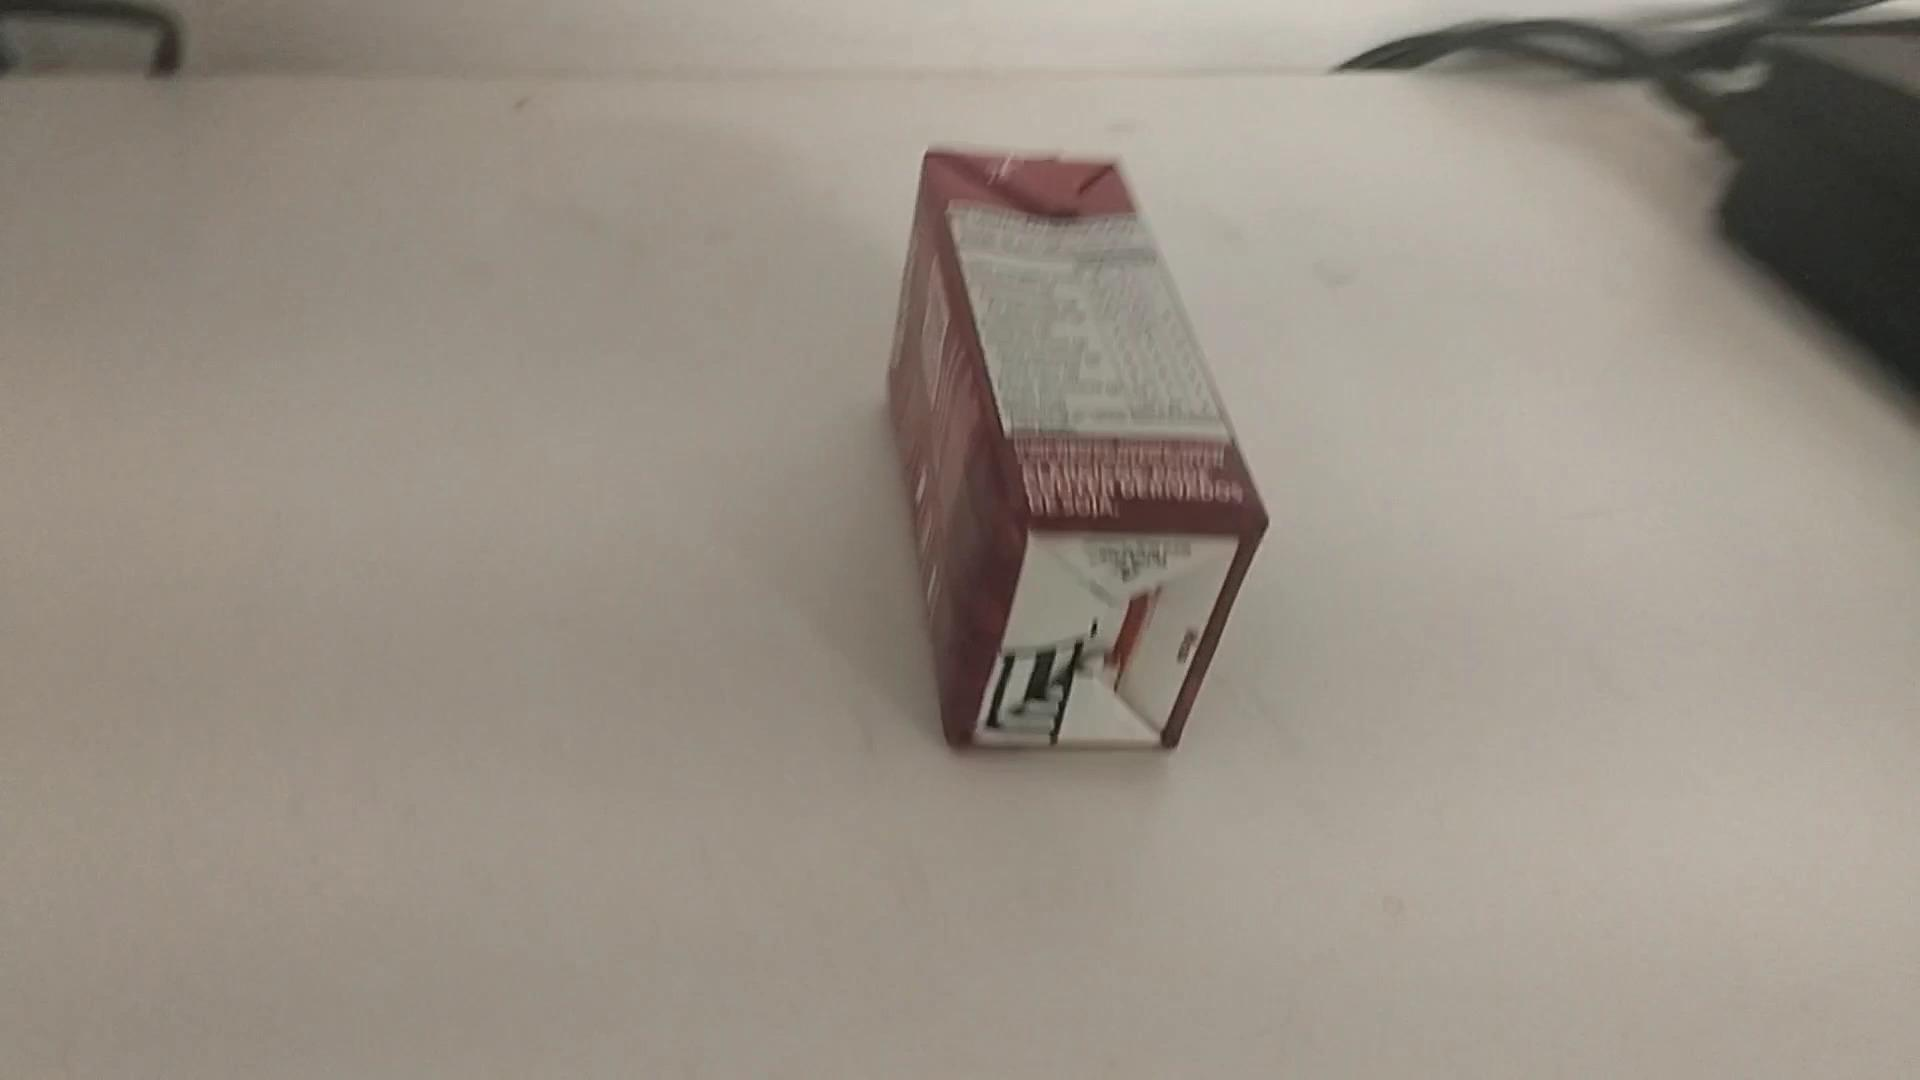tomate: (886, 142, 1275, 764)
